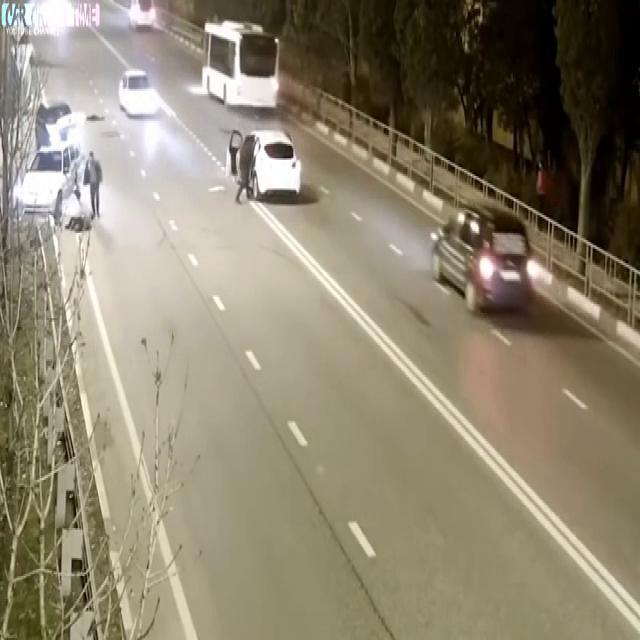accident: (14, 100, 92, 236)
